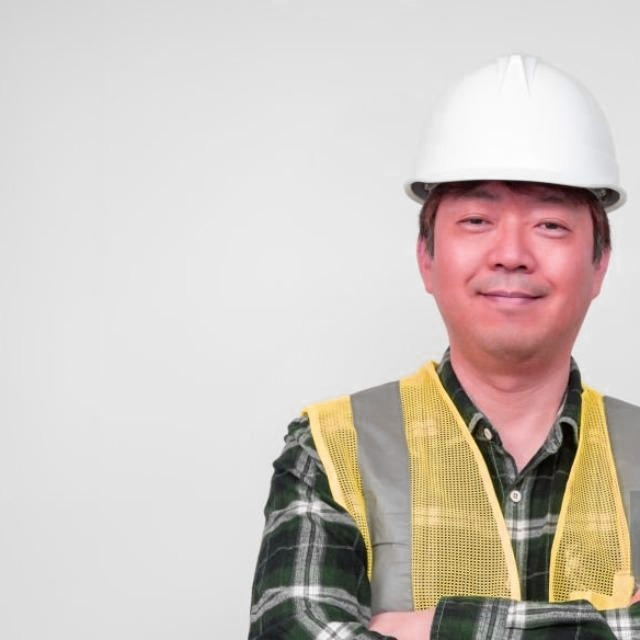Con_Casco: (394, 53, 633, 367)
Con_Chaleco: (286, 373, 640, 640)
